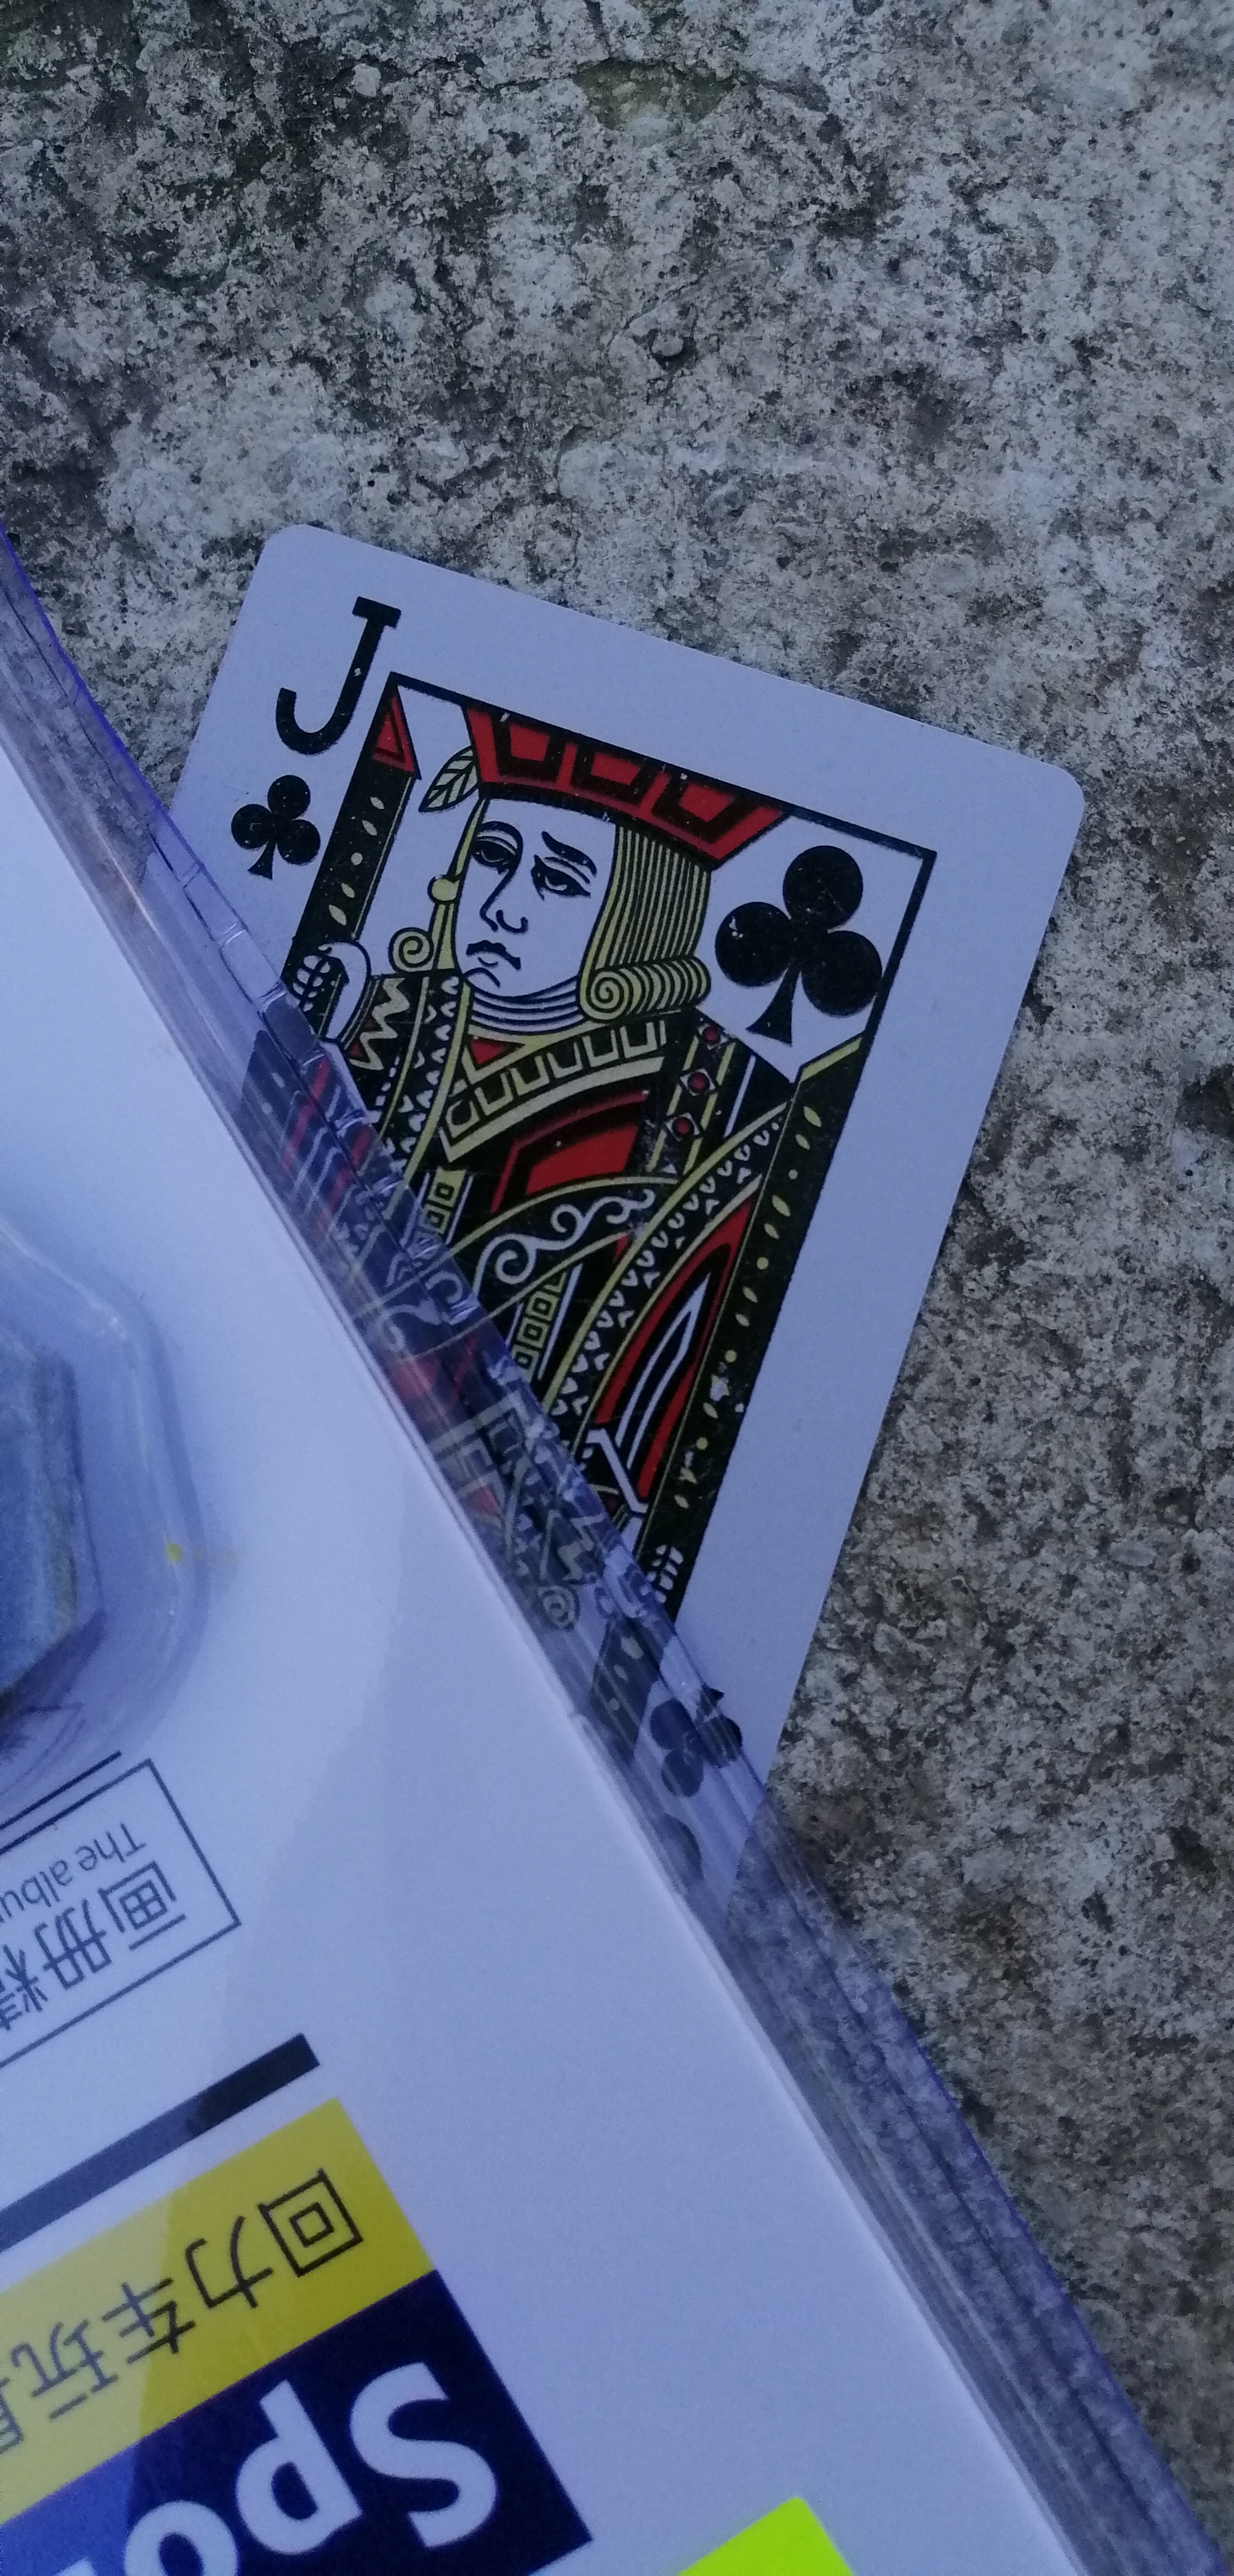jack: (104, 495, 1091, 2012)
